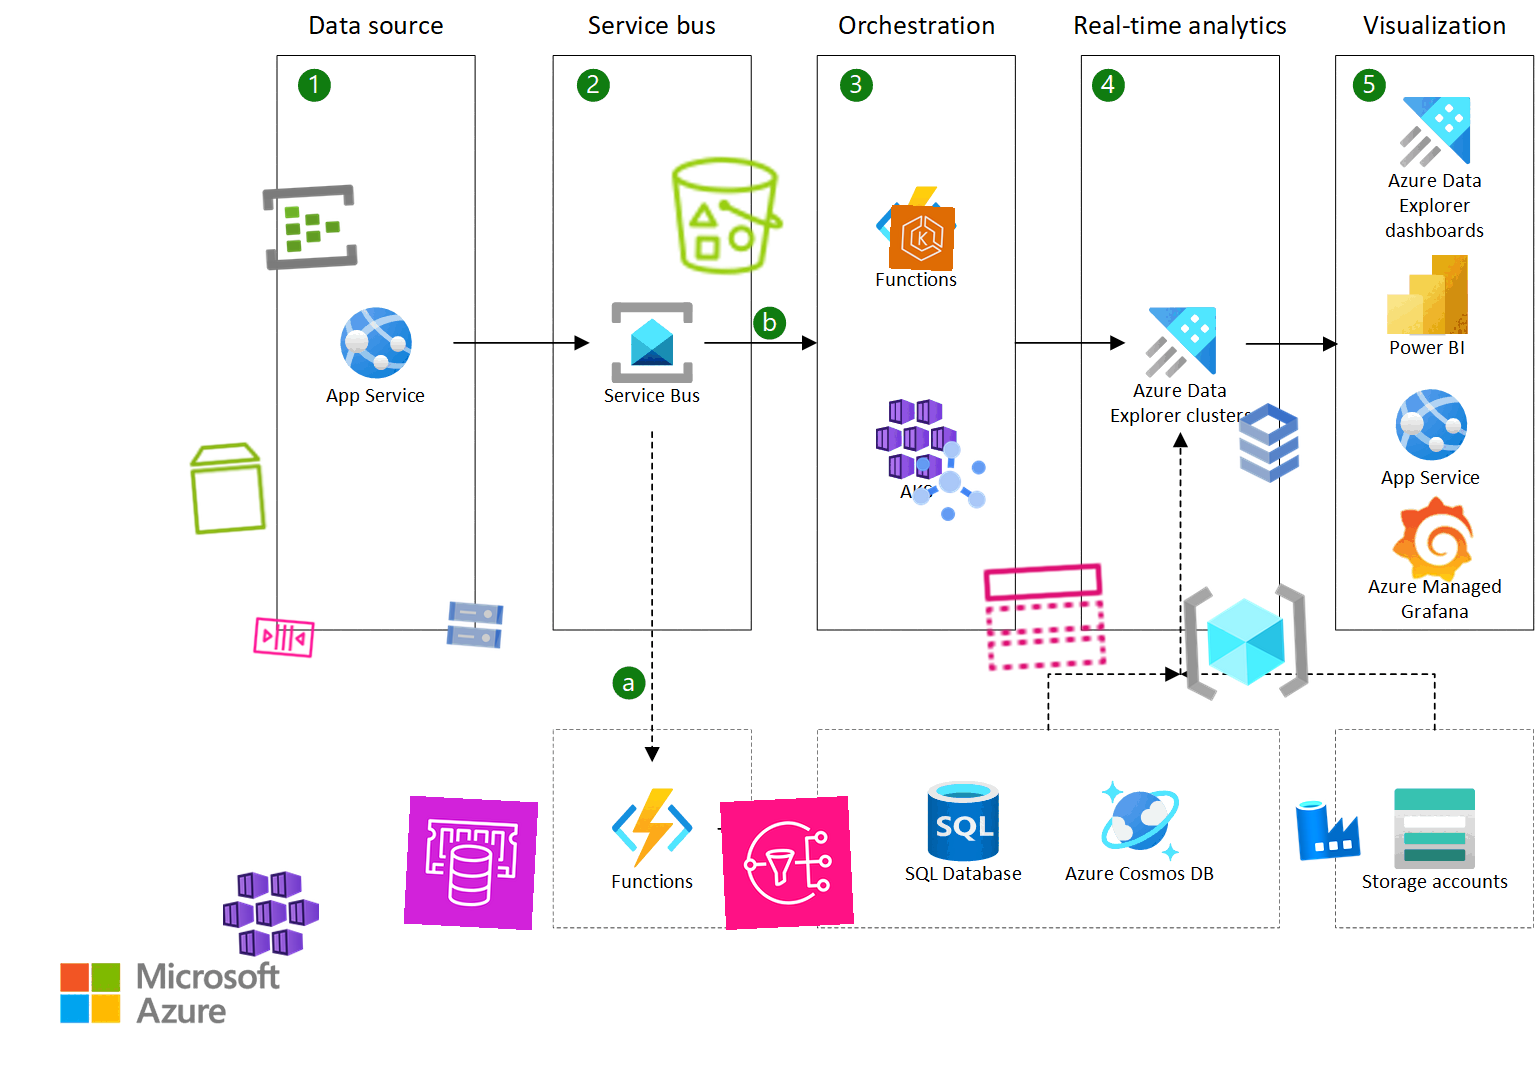aws_amazon_elastic_kubernetes_service: (888, 204, 956, 272)
aws_amazon_elasticache: (403, 795, 539, 931)
aws_amazon_simple_notification_service: (719, 795, 855, 931)
aws_elastic_block_store_volume: (176, 436, 280, 540)
aws_simple_notification_service_topic: (977, 549, 1113, 684)
aws_simple_queue_service_queue: (250, 602, 319, 672)
aws_simple_storage_service_bucket_with_objects: (661, 150, 793, 282)
azure_data_factories: (1292, 793, 1363, 863)
azure_event_hubs: (259, 176, 361, 278)
azure_kubernetes_services: (221, 863, 321, 963)
azure_resource_groups: (1179, 575, 1314, 709)
gcp_cloud_sql: (1219, 393, 1319, 493)
gcp_cloud_storage: (441, 590, 510, 660)
gcp_pubsub: (899, 430, 1001, 532)
